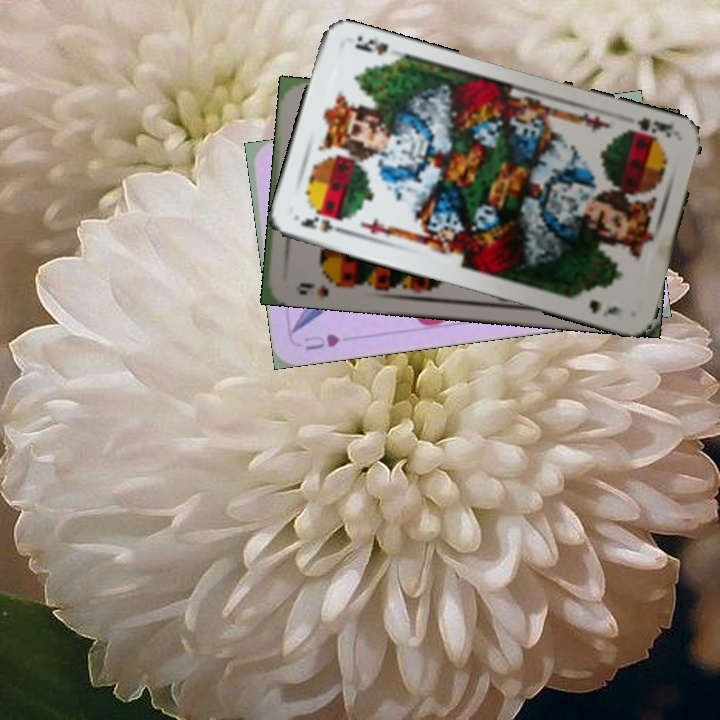HU: (300, 330, 342, 354)
S9: (294, 274, 346, 301)
SK: (620, 113, 676, 145), (296, 212, 352, 237)
